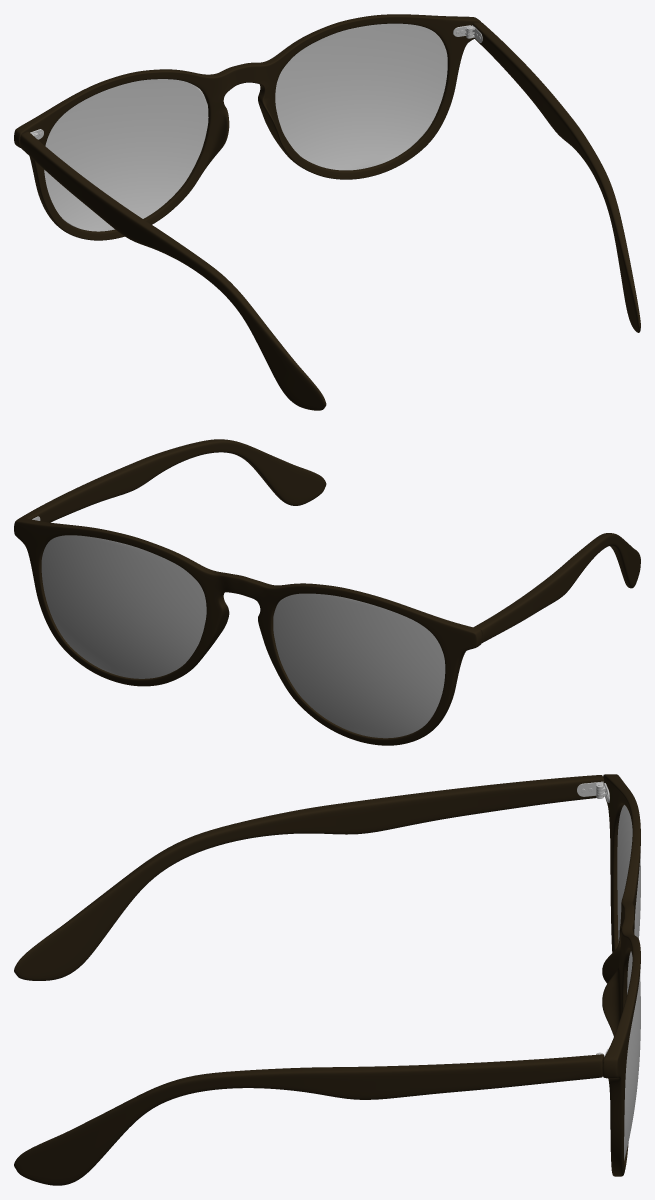
File: kacamata_oval2.fbx
3 renders of one model, top to bottom at view 1: azimuth 30°, elevation 25°; view 2: azimuth 150°, elevation 25°; view 3: azimuth 270°, elevation 25°, orthographic. The views are drawn at different scales.
Parts seen in each view (by area): view 1: Sphere002, Sphere001, Line001, Line002, Line003; view 2: Sphere001, Sphere002, Line001, Line003, Line002; view 3: Line002, Line003, Line001, Sphere002, Sphere001.
Part boxes in pixels (x1,y1,x2,y2): Sphere002: [275, 23, 447, 170]; Sphere001: [44, 79, 208, 231]; Line001: [14, 14, 480, 240]; Line002: [20, 131, 326, 410]; Line003: [472, 22, 640, 332]; Sphere001: [273, 593, 445, 738]; Sphere002: [41, 535, 206, 678]; Line001: [14, 517, 482, 745]; Line003: [21, 439, 326, 522]; Line002: [473, 533, 640, 642]; Line002: [14, 775, 604, 980]; Line003: [14, 1054, 604, 1185]; Line001: [602, 774, 640, 1176]; Sphere002: [624, 951, 640, 1160]; Sphere001: [617, 805, 640, 942].
Bounding box in the file's own units: 16.19 × 5.13 × 14.92.
